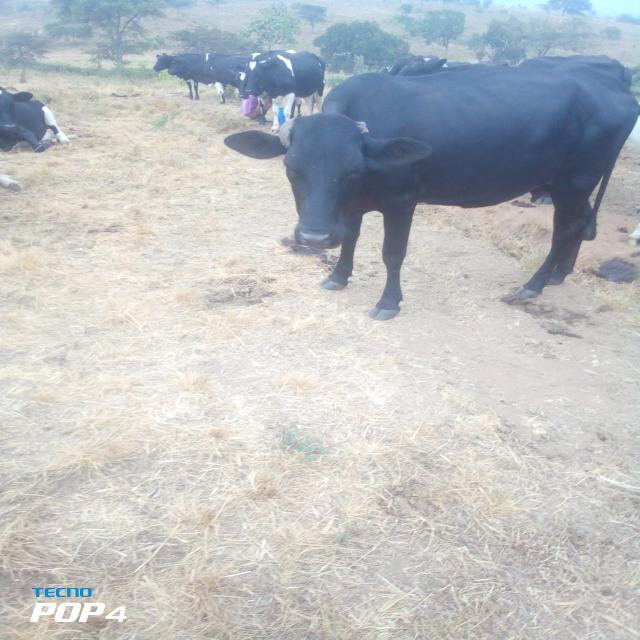cow: (170, 32, 640, 339)
